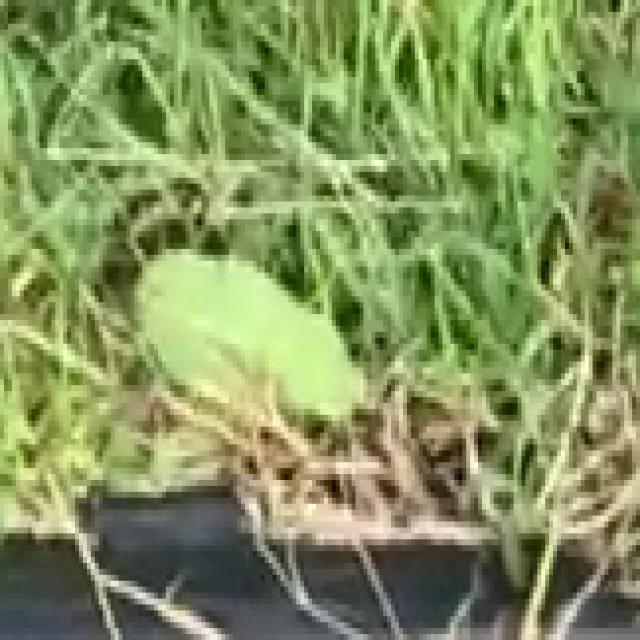organic waste: (52, 166, 526, 593)
